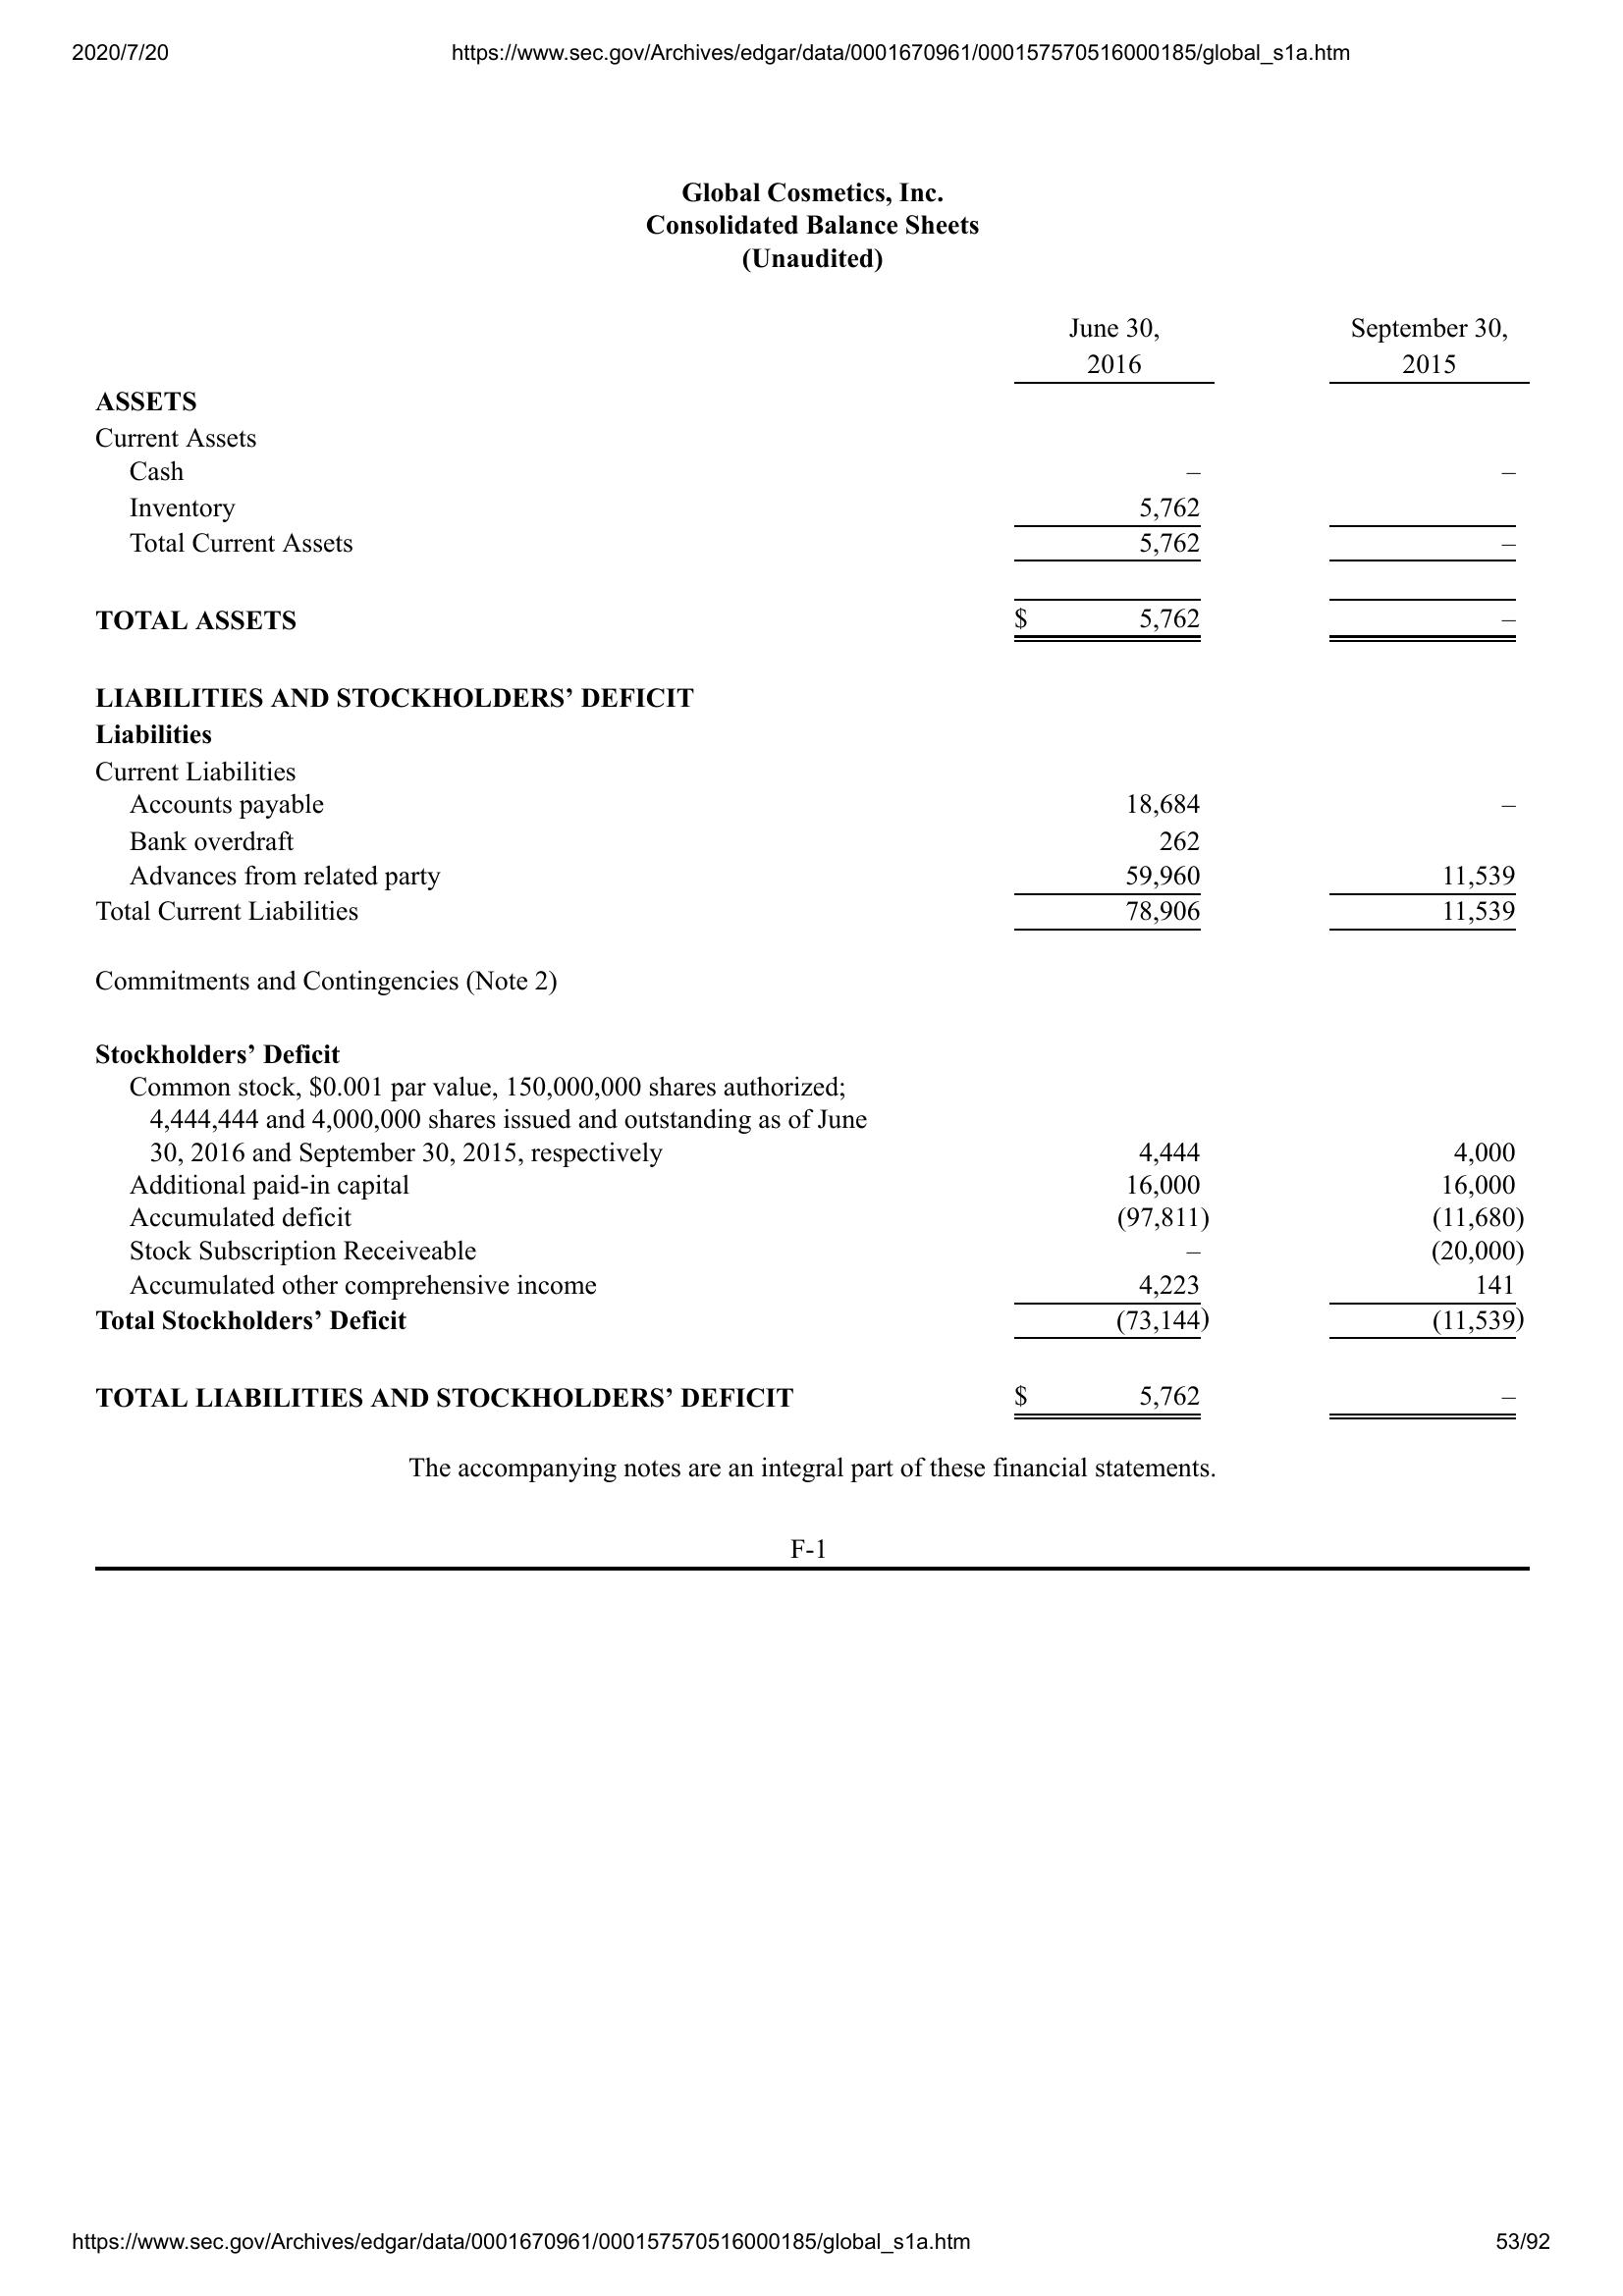table: (86, 1037, 1535, 1434), (88, 311, 1537, 651), (74, 755, 1526, 943)
